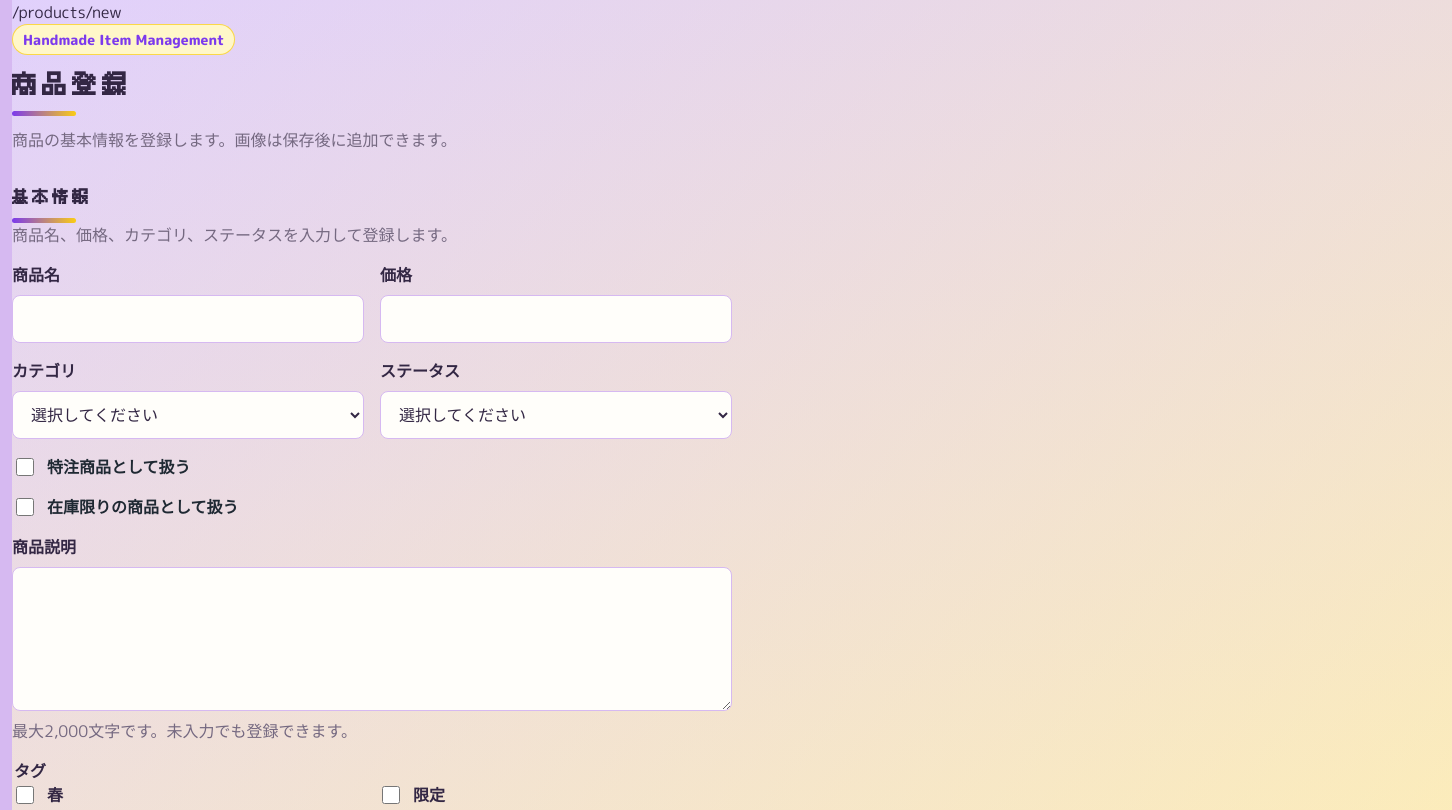
ProductCreatePage › creates a product and navigates to the detail page
Type "  ブローチ  " into the field labelled "商品名" at [188, 319], box [12,295,364,343]
Type "春向けの一点物" into the text box labelled "商品説明" at [372, 639], box [12,567,732,711]
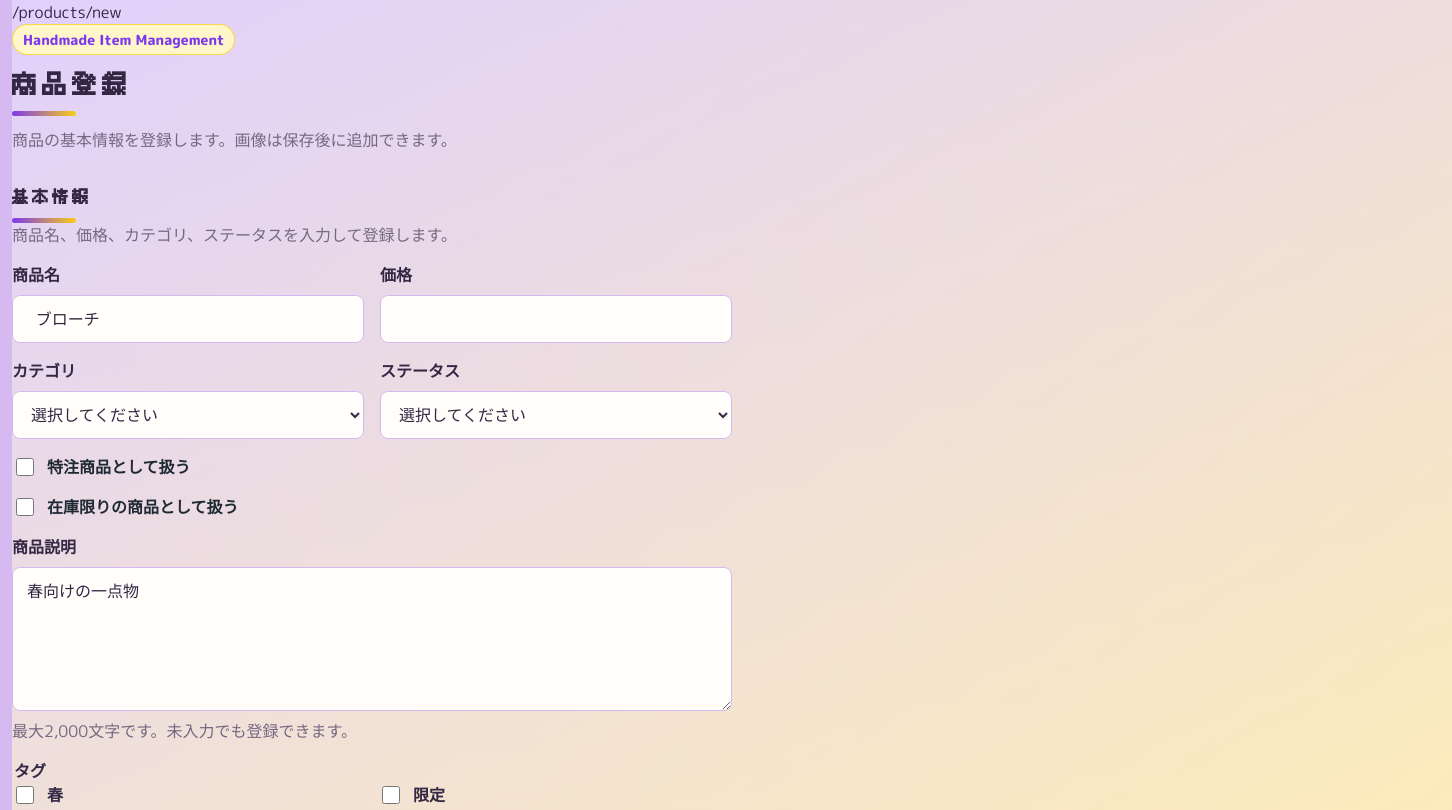
Type "2800" into the number field labelled "価格" at [556, 319], box [380,295,732,343]
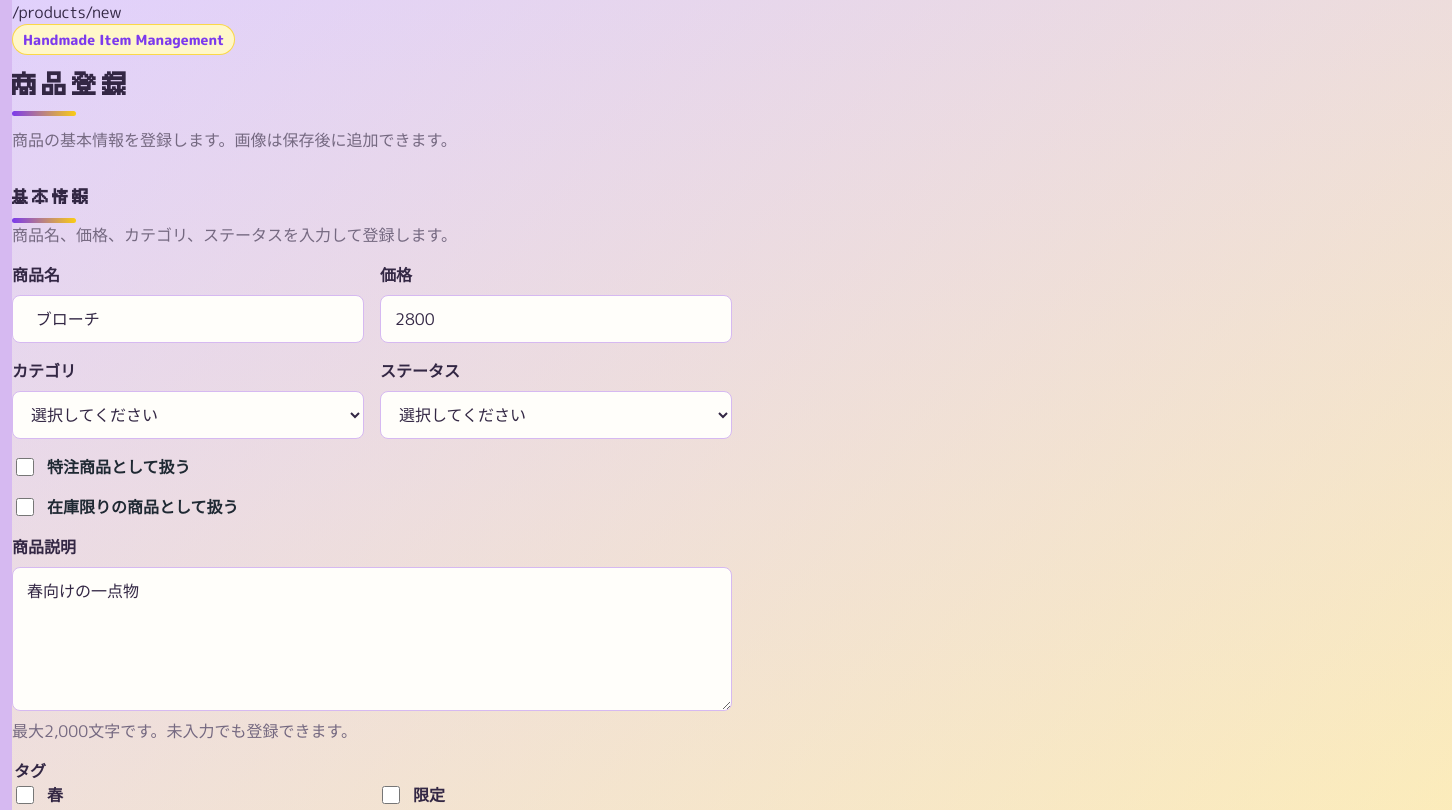
Select "アクセサリー" in the dropdown labelled "カテゴリ" at [188, 415], box [12,391,364,439]
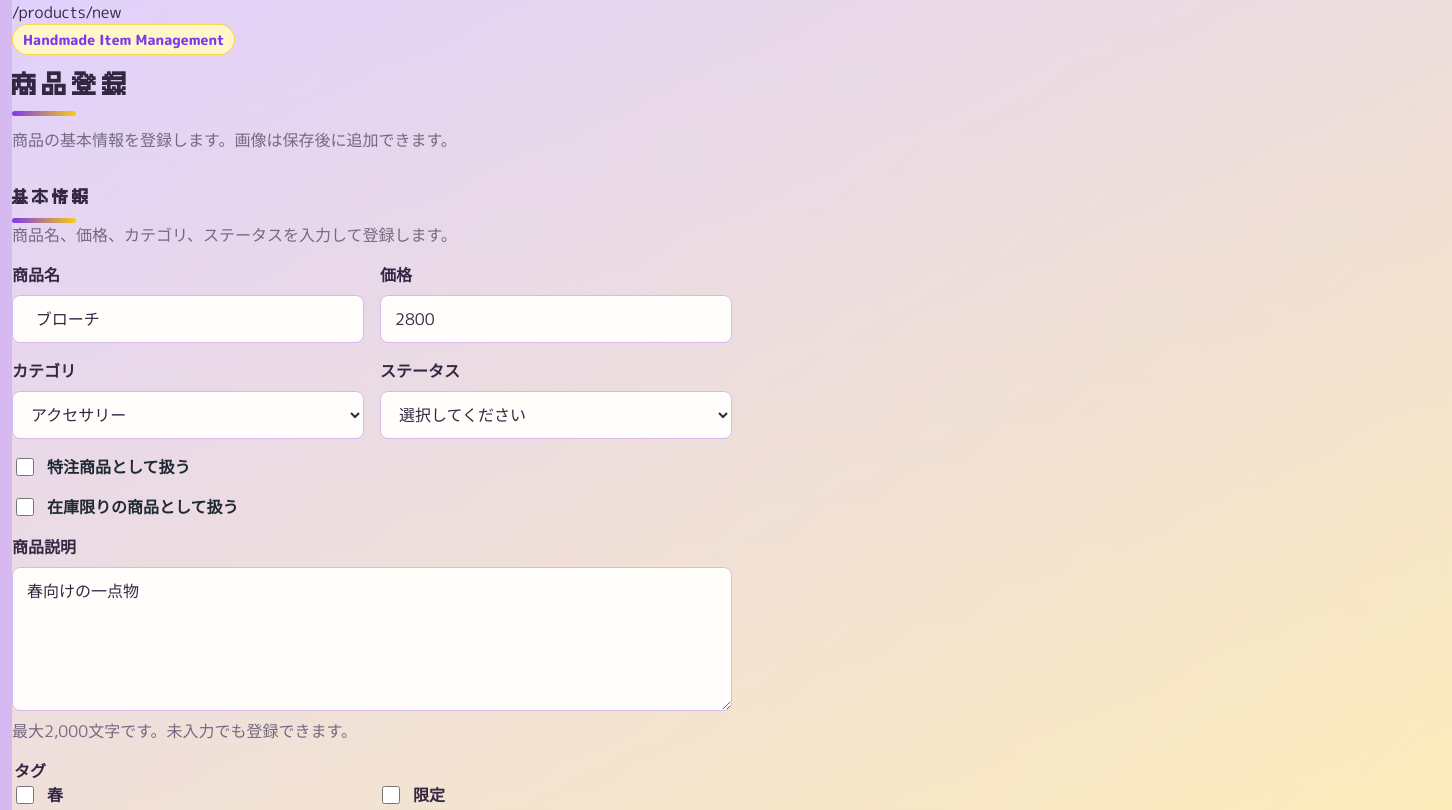
Select "制作済" in the dropdown labelled "ステータス" at [556, 415], box [380,391,732,439]
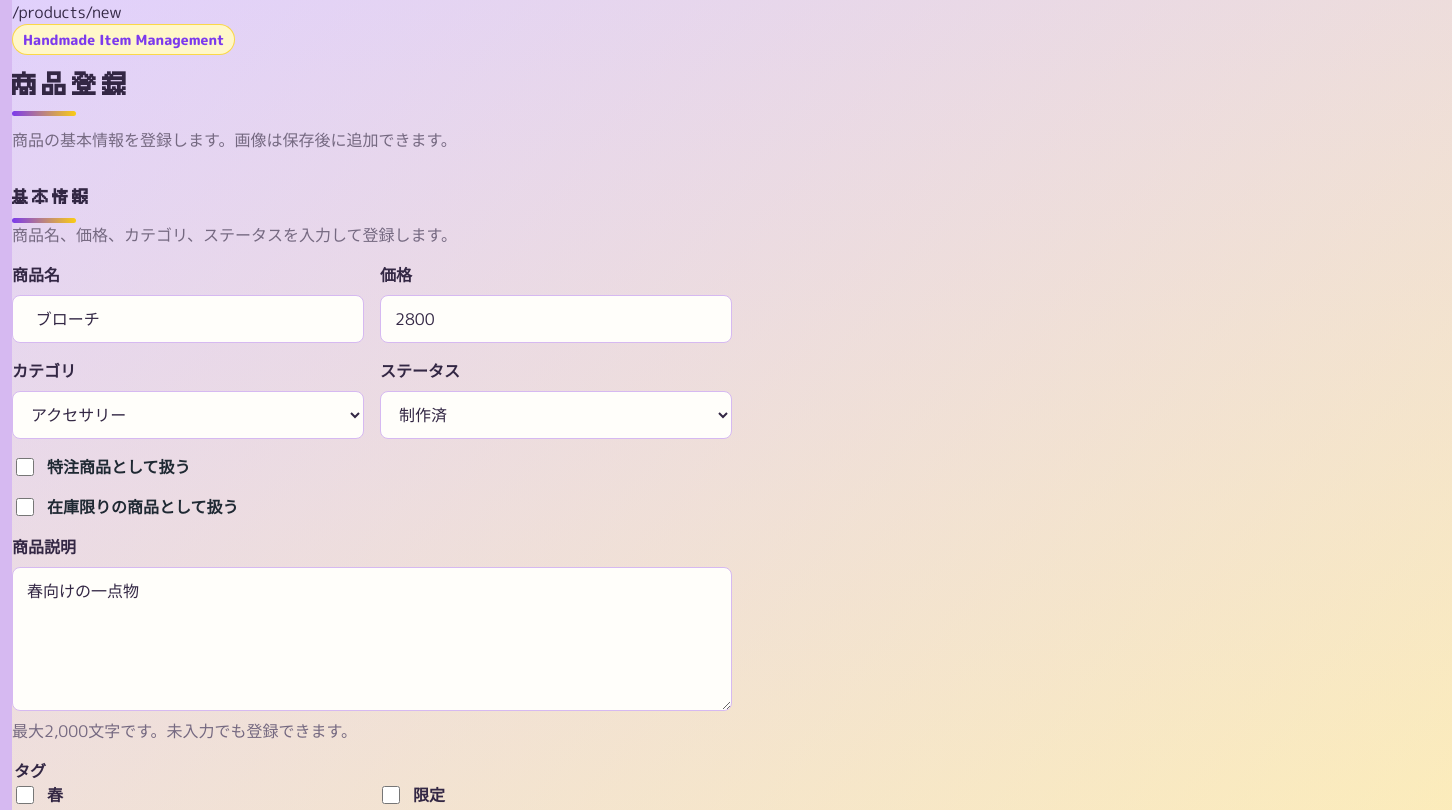
Click the checkbox labelled "春" at [25, 795], box [16,786,34,804]
(page scrolled)
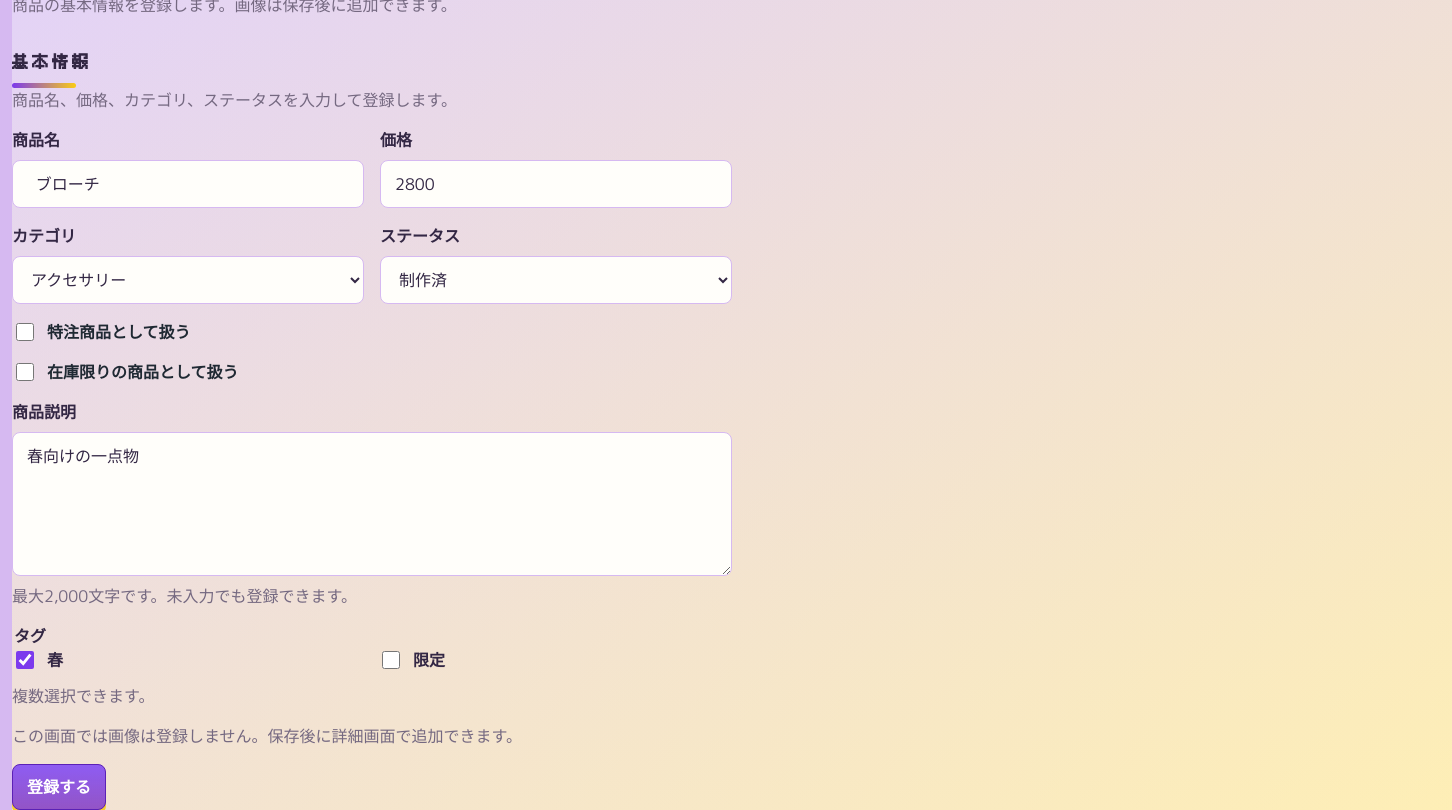
Click the button "登録する" at [59, 787], box [12,764,106,809]
(page scrolled)
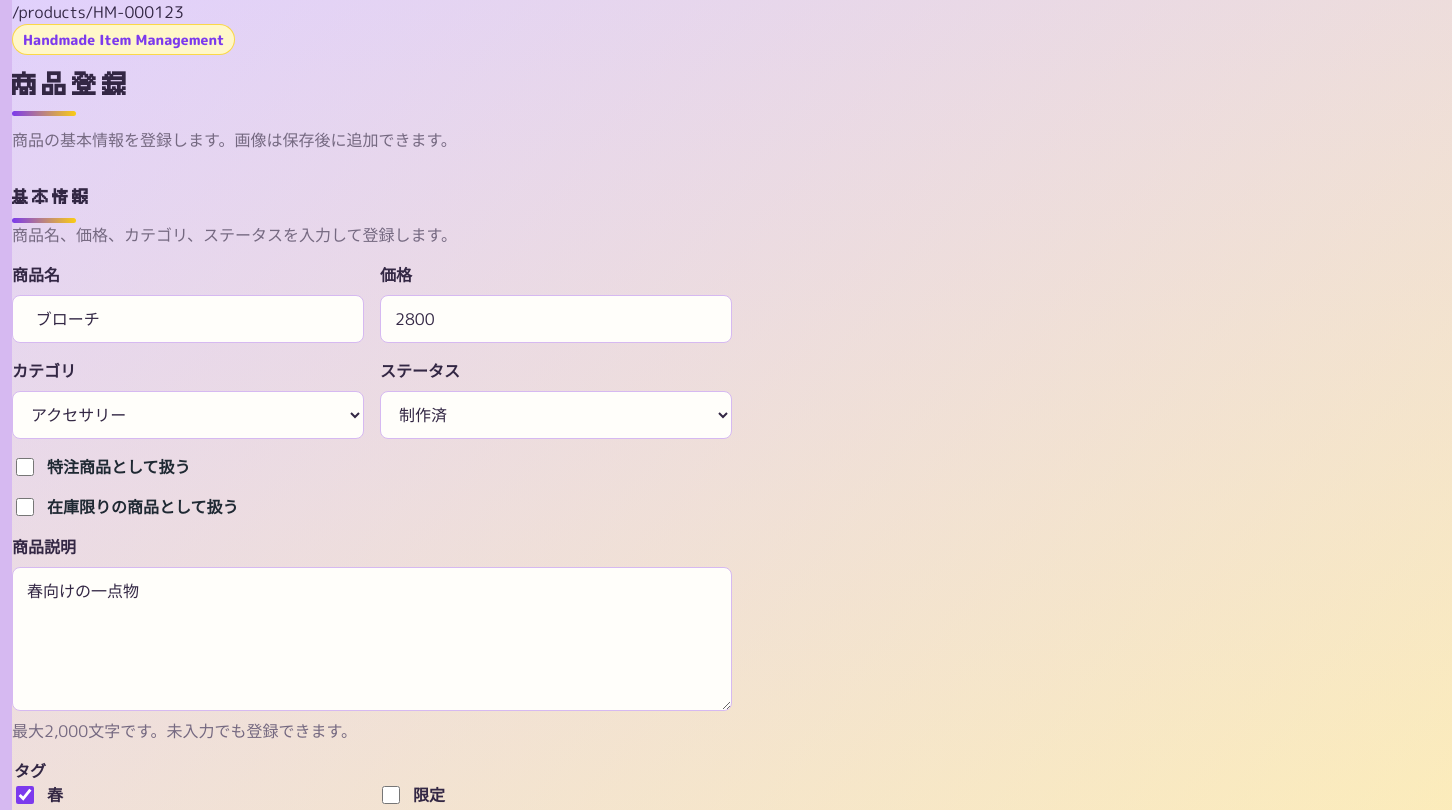
expect the text with test id "location-probe" reads "/products/HM-000123": met, box [12,1,184,23]
